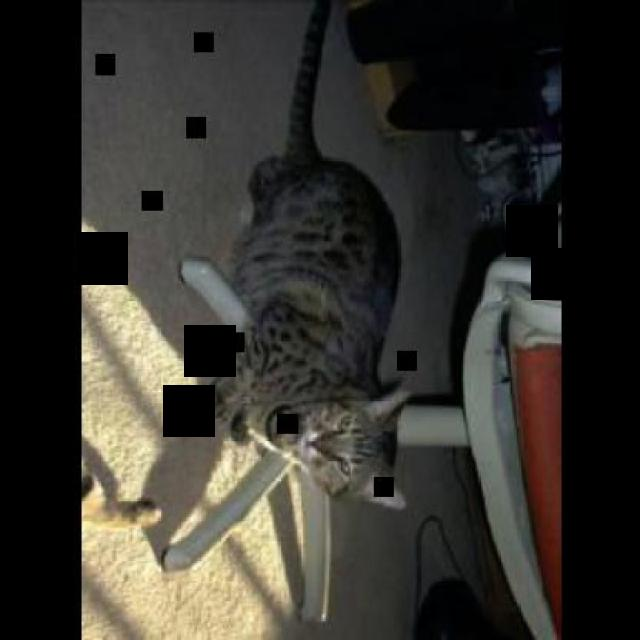unauthorized: (200, 0, 412, 509)
